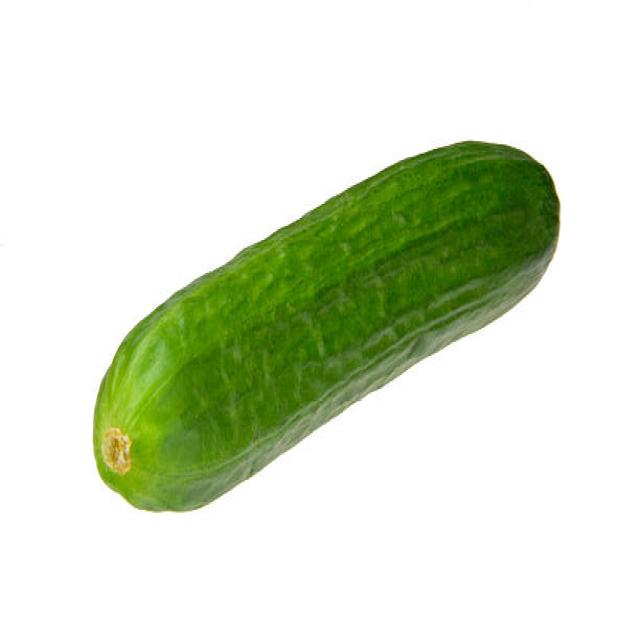cucumber: (92, 140, 559, 506)
